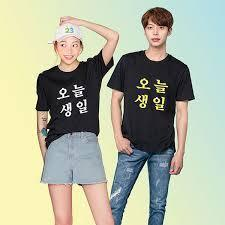Tshirt: (101, 47, 198, 156), (26, 59, 104, 146)
pants: (106, 129, 177, 225)
short: (37, 132, 109, 186)
